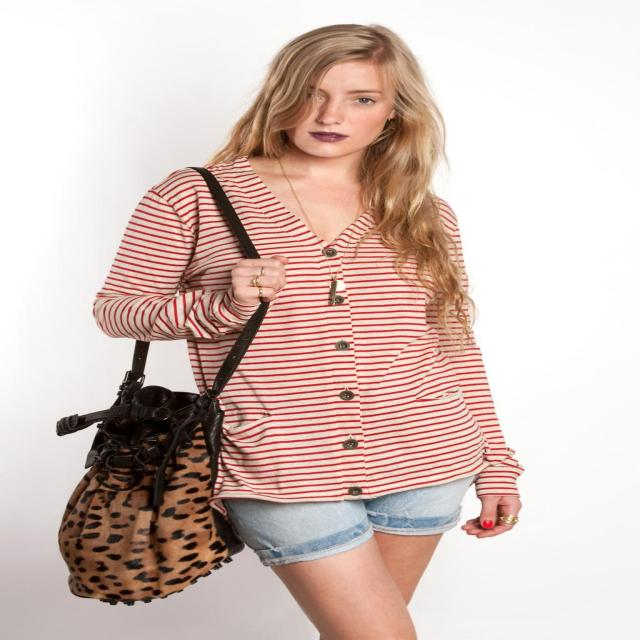Face: (281, 52, 424, 165)
